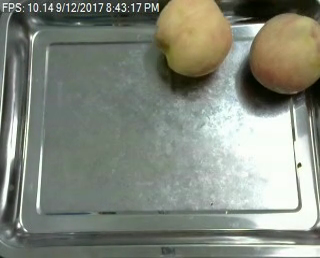Peach: (154, 0, 233, 76), (247, 11, 318, 95)
